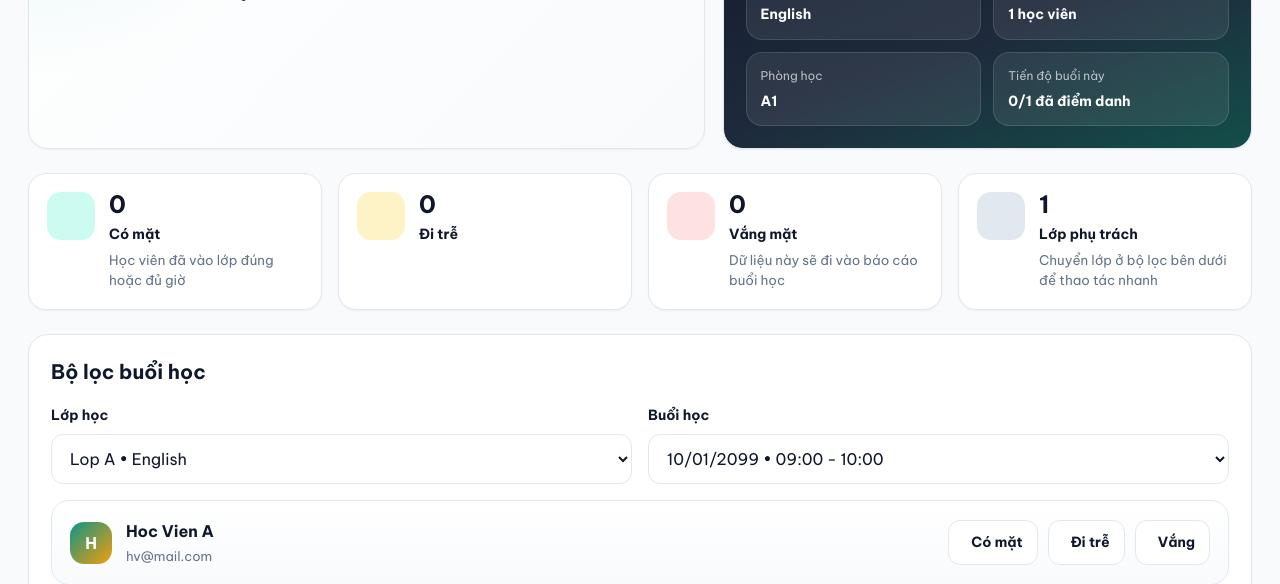
Test: TeacherAttendancePage › hien loi khi luu diem danh that bai
(page scrolled)
Expected: the text "Hoc Vien A" is shown, [126,519,214,543]
Click the button "Vắng" at (1172, 543), box [1135,520,1210,565]
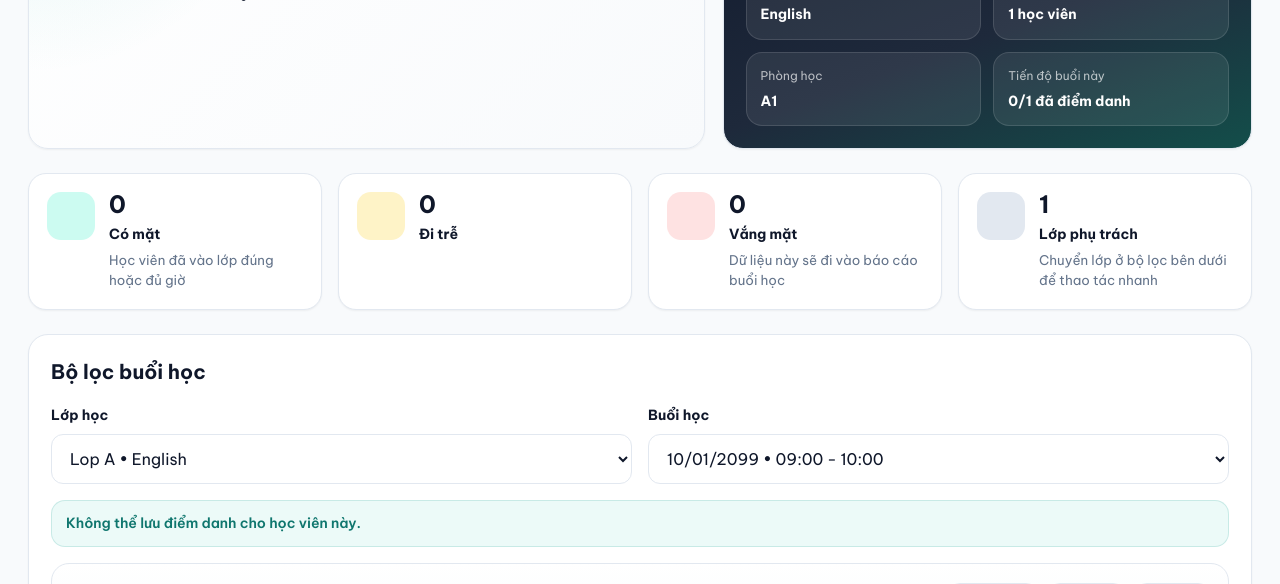
Result: the text "Không thể lưu điểm danh cho học viên này." is shown at [51,500,1229,547]
